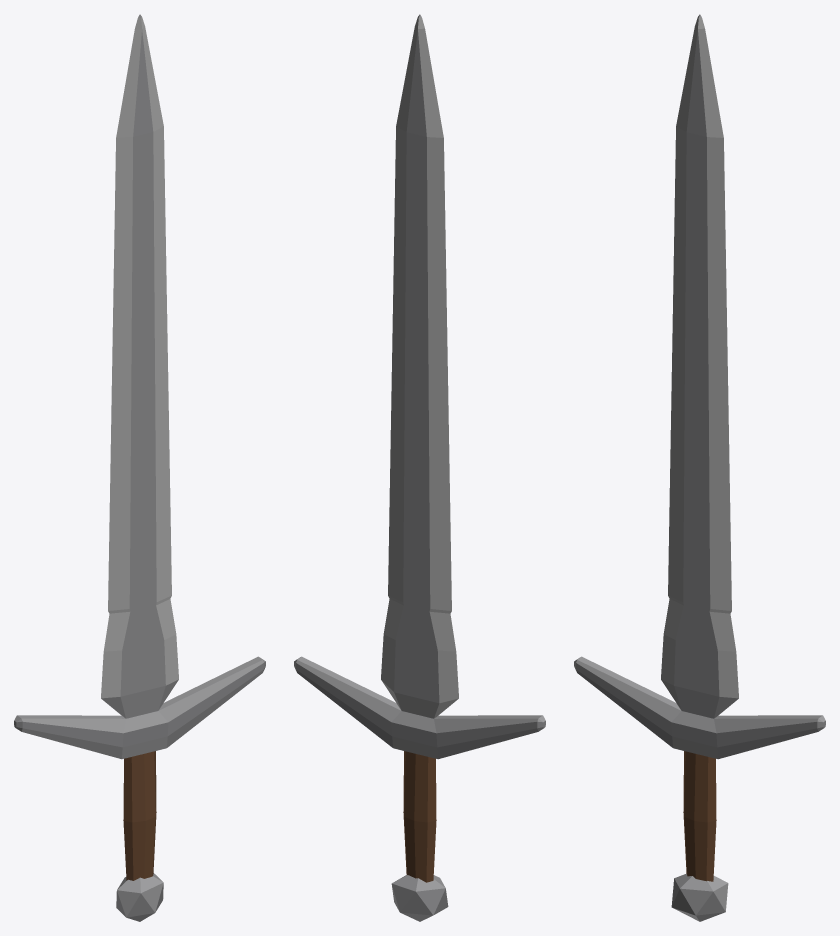
File: mesh_lowPoly_sword.fbx
The picture shows the model from 3 angles, left to right: view 1: azimuth 30°, elevation 25°; view 2: azimuth 150°, elevation 25°; view 3: azimuth 330°, elevation 25°; orthographic projection.
Visible parts, largest first — view 1: mesh_lowPoly_sword; view 2: mesh_lowPoly_sword; view 3: mesh_lowPoly_sword.
Boxes of the visible parts, box(x1,y1,x2,y2) form: mesh_lowPoly_sword: box(14, 14, 265, 921); mesh_lowPoly_sword: box(294, 14, 545, 921); mesh_lowPoly_sword: box(574, 14, 825, 921).
Bounding box in the file's own units: 21.39 × 74.4 × 3.13.
